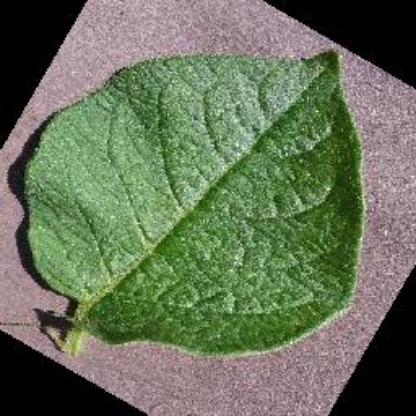Healthy-plant: (24, 50, 364, 358)
